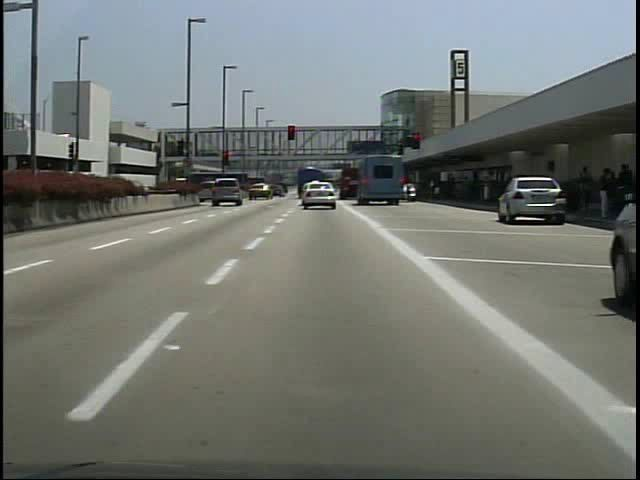person: (581, 164, 596, 215)
